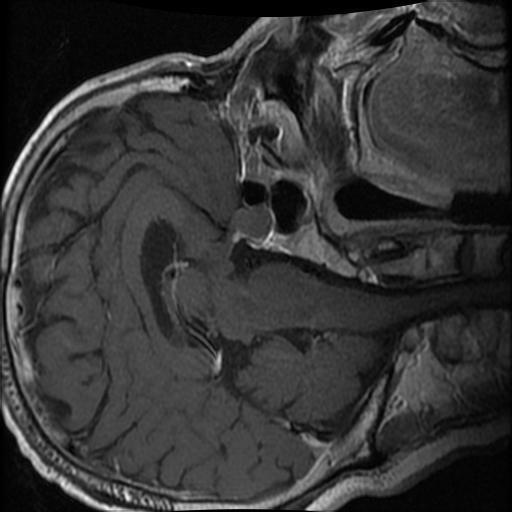pituitary tumour: (230, 205, 273, 243)
